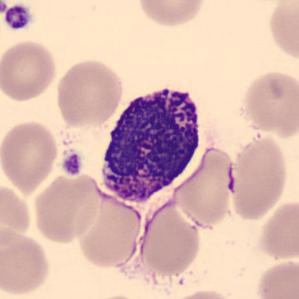Basophil: (94, 78, 210, 209)
Platelets: (2, 3, 34, 32), (60, 151, 83, 177), (0, 0, 7, 15)
RBC: (223, 132, 291, 221), (170, 144, 238, 230), (31, 170, 103, 246), (53, 56, 125, 129), (138, 198, 204, 277), (75, 194, 144, 269), (0, 118, 60, 193), (237, 68, 298, 138), (0, 225, 53, 298), (0, 38, 59, 103), (256, 199, 299, 262), (0, 180, 34, 247), (134, 0, 208, 29), (265, 0, 298, 64), (254, 257, 298, 299), (168, 287, 238, 299), (88, 293, 150, 299)
